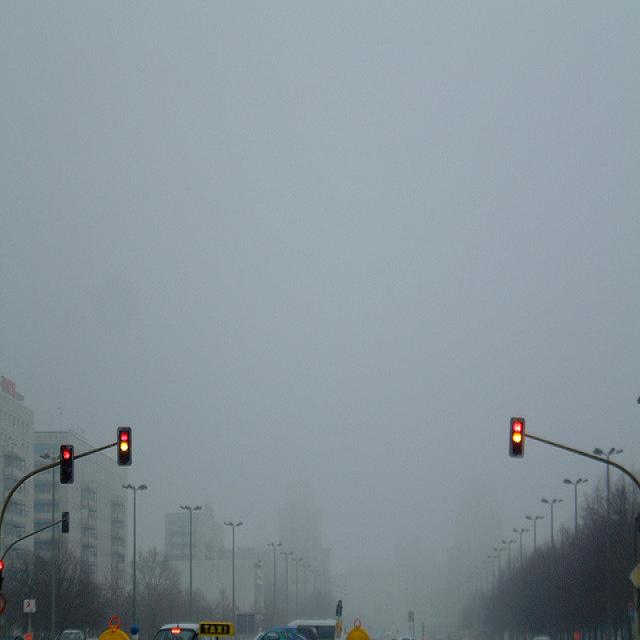Vehicle: (284, 620, 337, 640), (254, 626, 309, 640), (160, 618, 198, 638), (56, 630, 84, 640)
